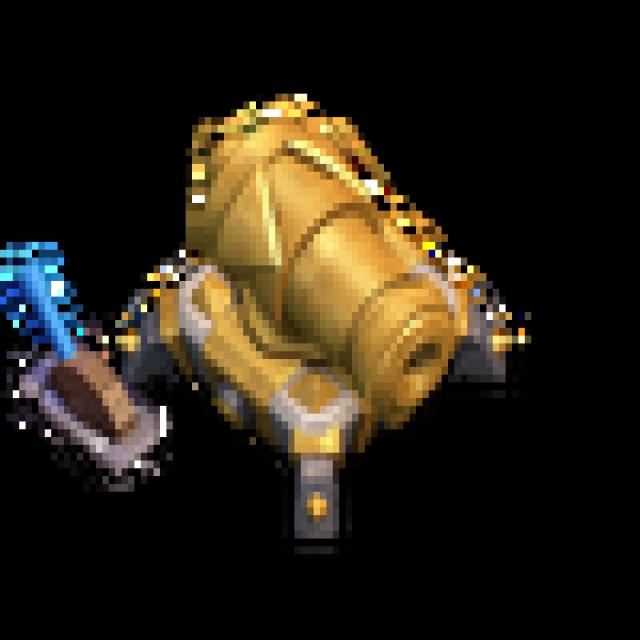cannon: (7, 71, 570, 588)
